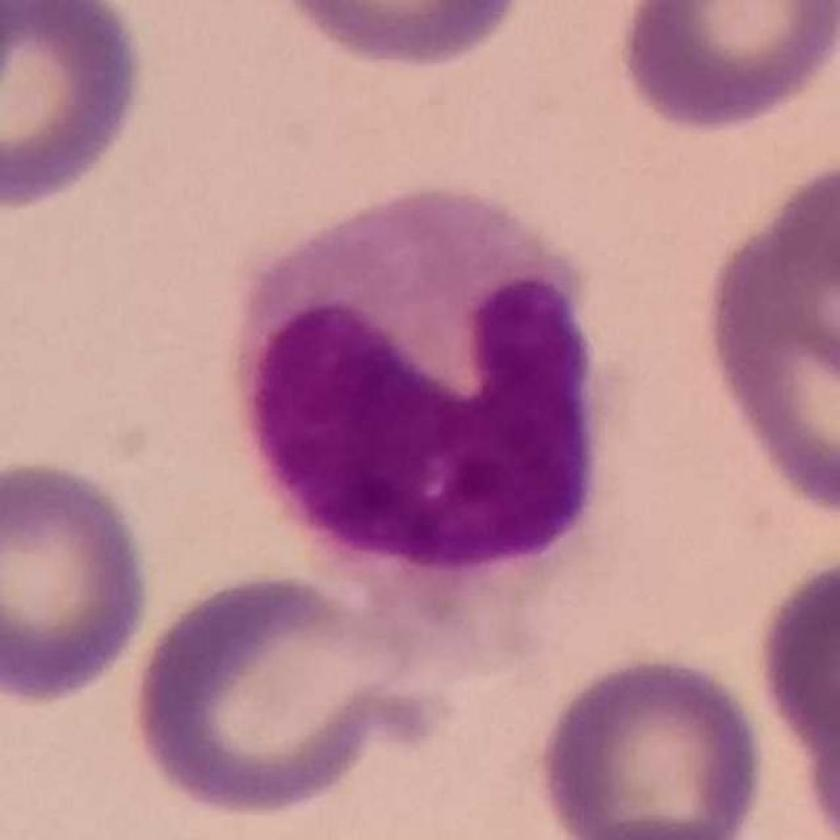monocyte: (227, 178, 614, 663)
